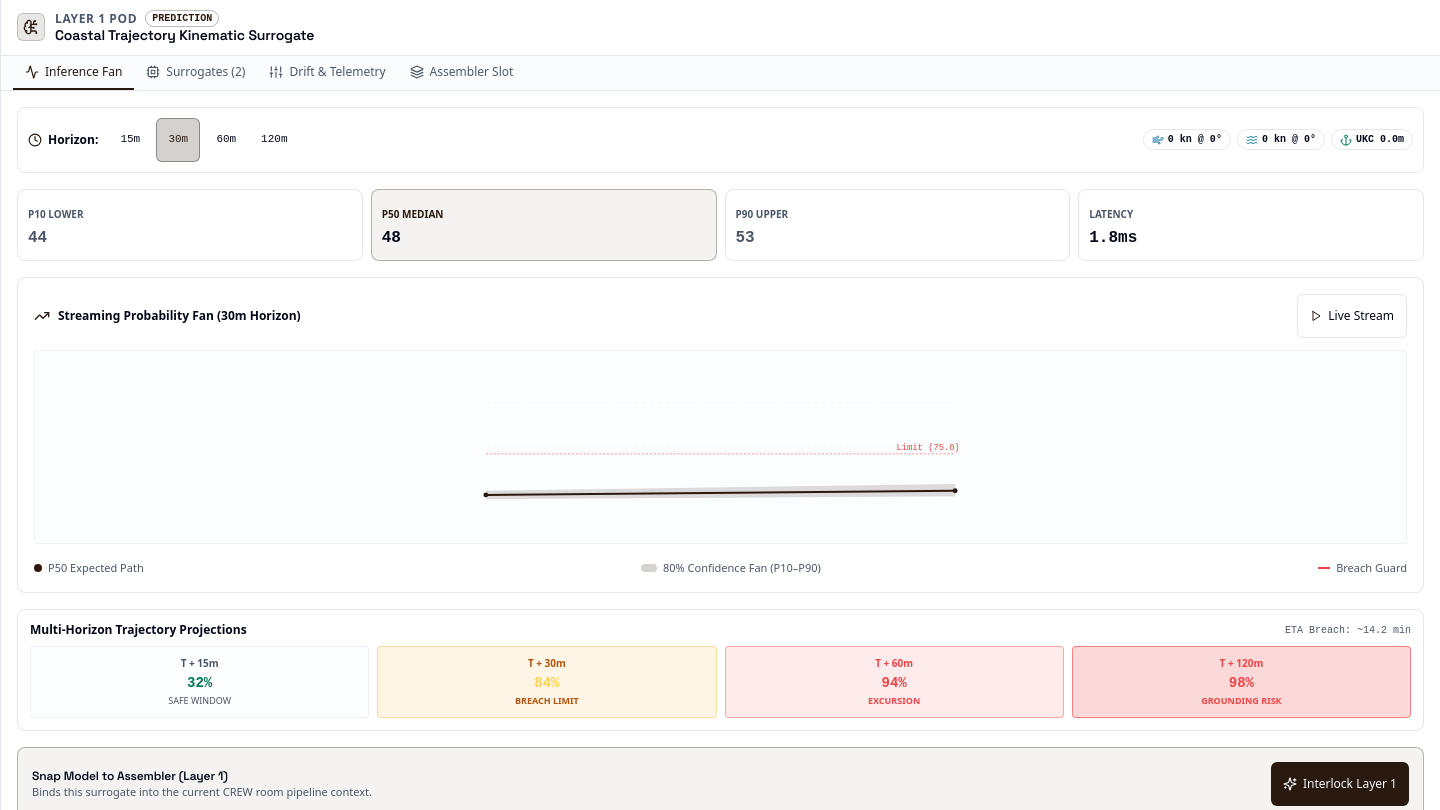
PredictionStudioPod Component › switches between tabs when clicked
The image size is (1440, 810).
Note: Switch to Surrogates tab
Step 1. Click the button "Surrogates (2)" → (196, 72), box [134, 56, 257, 90]
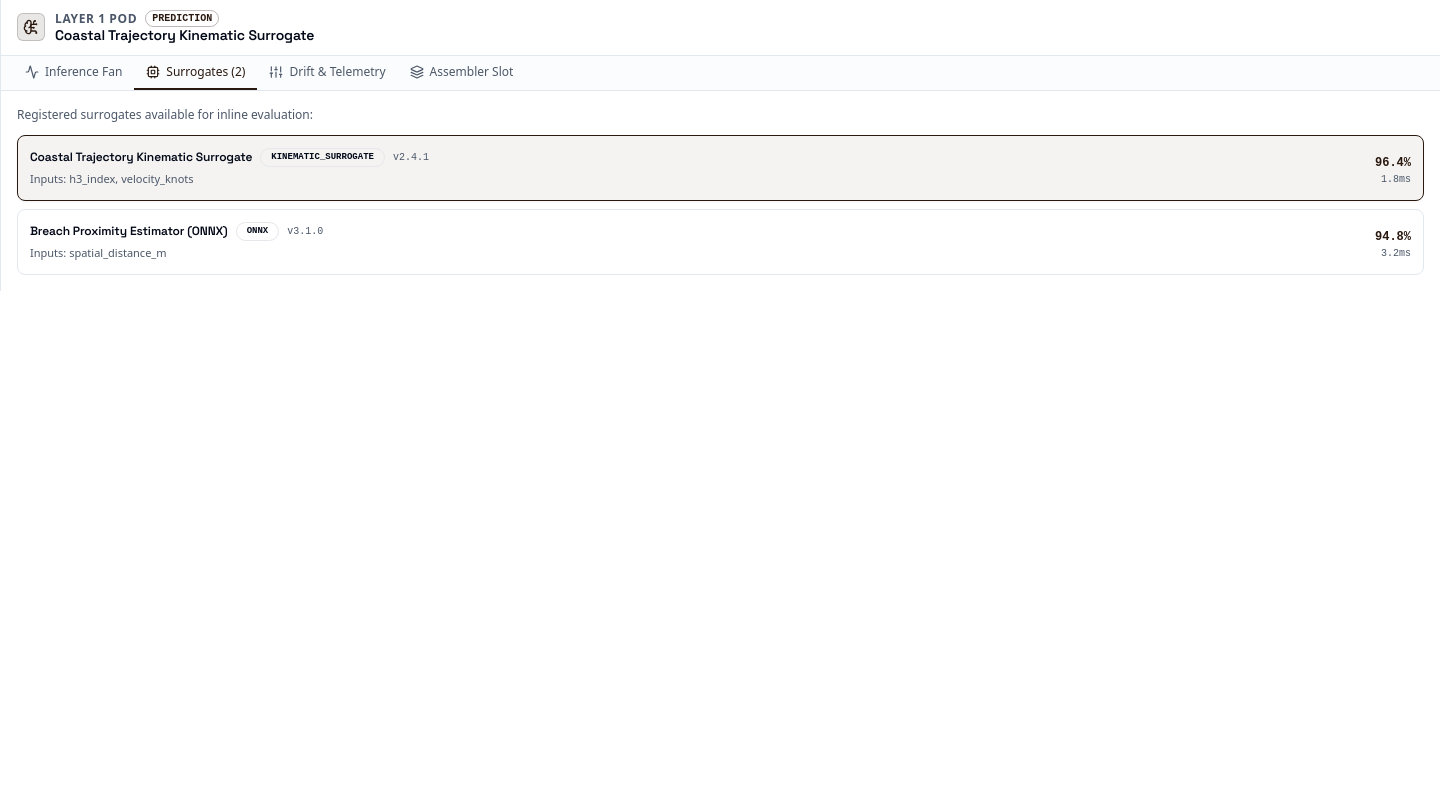
Result: the heading "Breach Proximity Estimator (ONNX)" is shown at [30, 223, 228, 239]
Note: Switch to Drift tab
Step 2. Click the button "Drift & Telemetry" → (328, 72), box [257, 56, 398, 90]
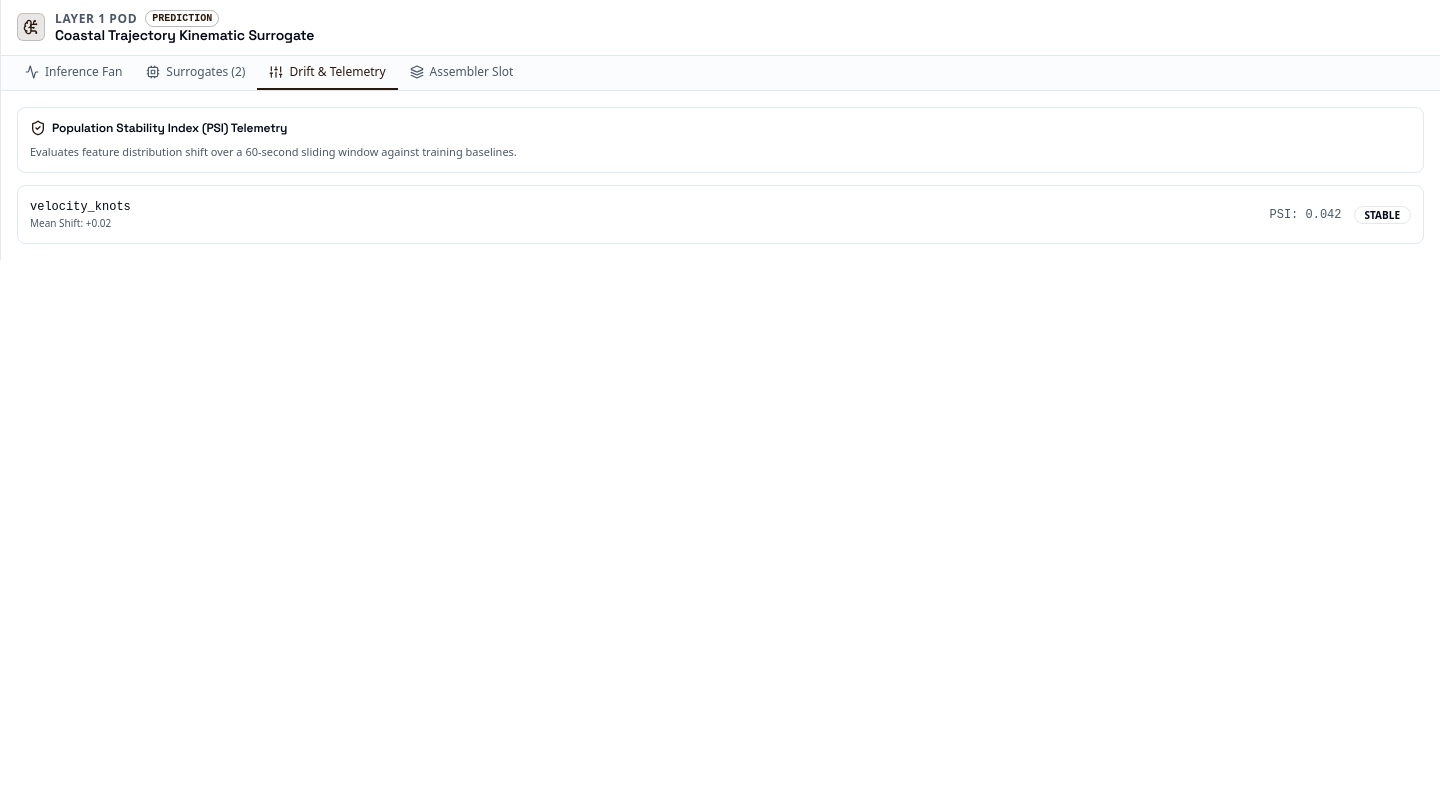
Result: the text "velocity_knots" is shown at [30, 200, 131, 214]
Result: the heading "Population Stability Index (PSI) Telemetry" is shown at [30, 120, 287, 136]
Note: Switch to Assembler tab
Step 3. Click the button "Assembler Slot" → (462, 72), box [398, 56, 525, 90]
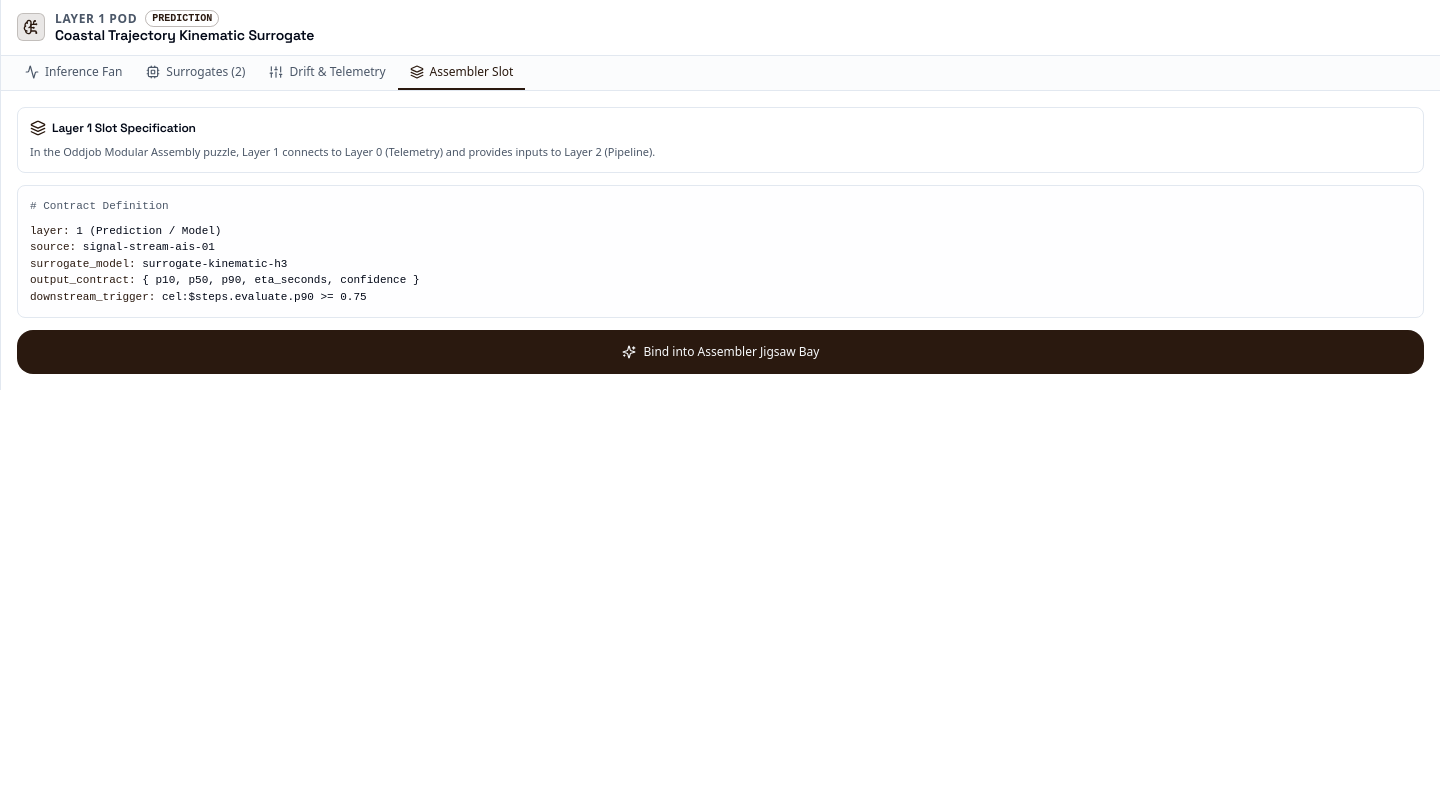
Result: the heading "Layer 1 Slot Specification" is shown at [30, 120, 196, 136]
